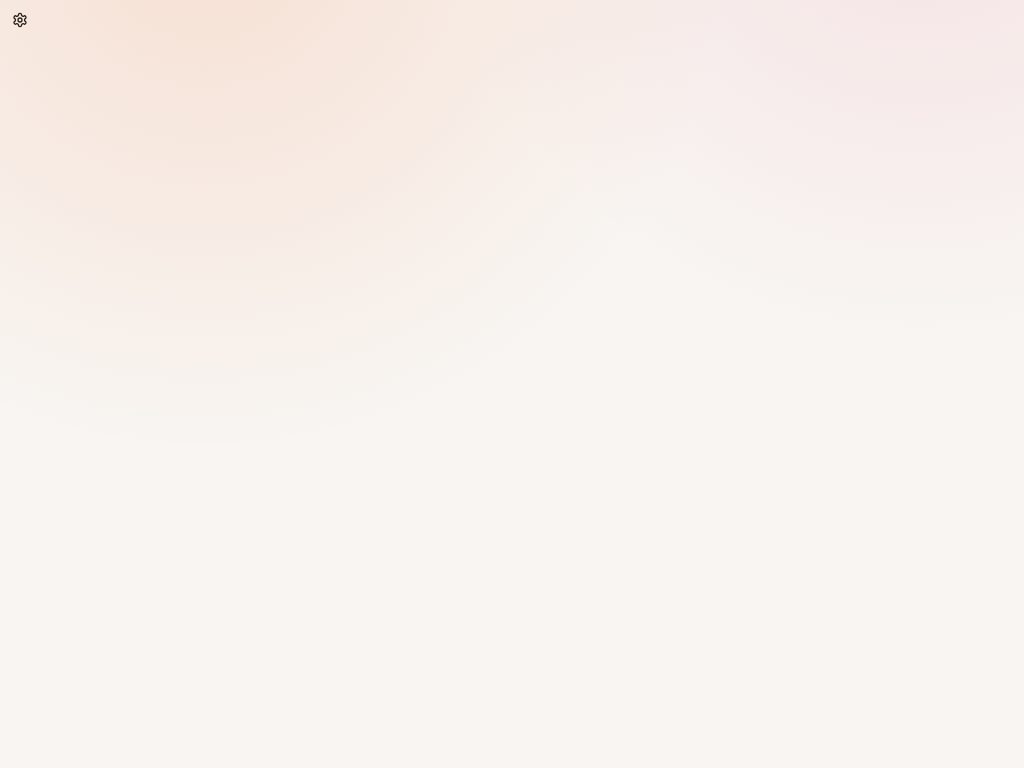
Scenario: SettingsDialog › toggles API key visibility when button is clicked
Note: Open dialog
Click the button named "Ajustes" at (20, 20), box [0,0,40,40]
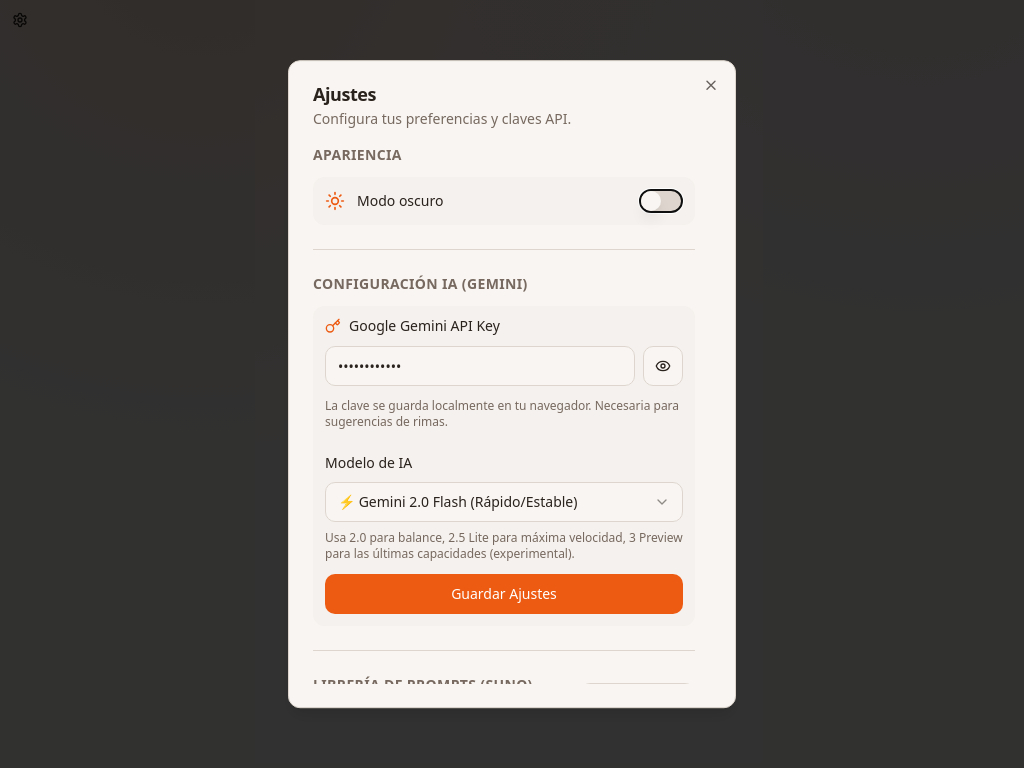
Now the button named "Mostrar clave API" is shown
Note: Click to show
Click the button named "Mostrar clave API" at (663, 366), box [643,346,683,386]
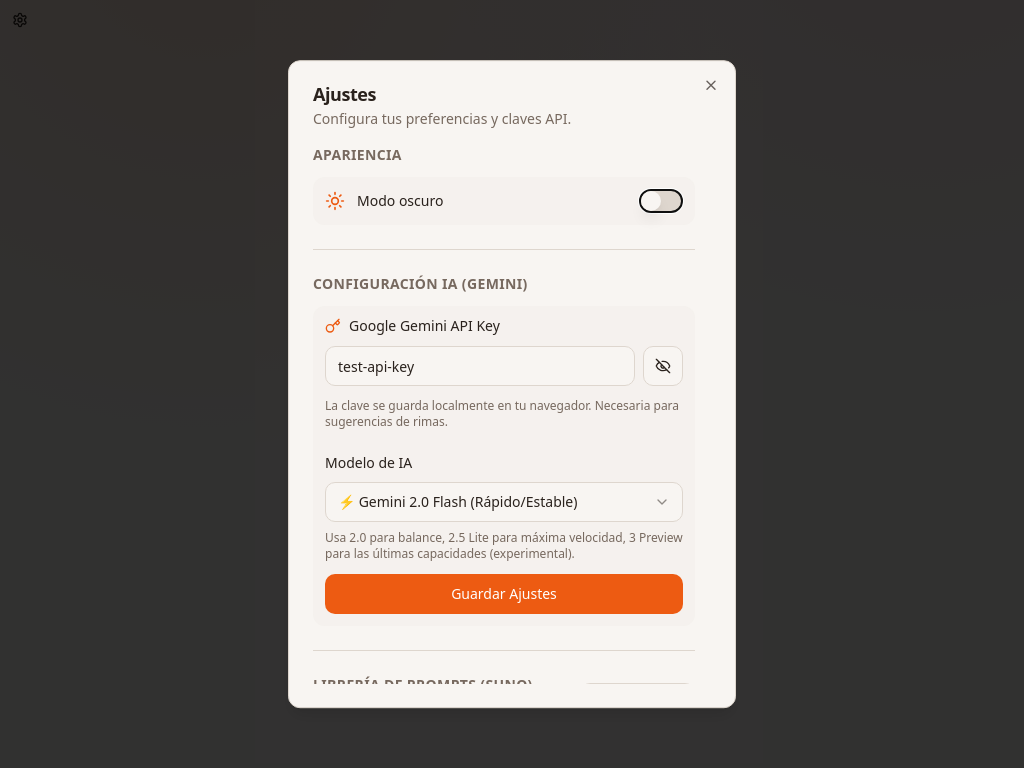
Now the field labelled "Google Gemini API Key" shows its text, box [325,346,635,386]
Now the button named "Ocultar clave API" is shown
Note: Click to hide
Click the button named "Ocultar clave API" at (663, 366), box [643,346,683,386]
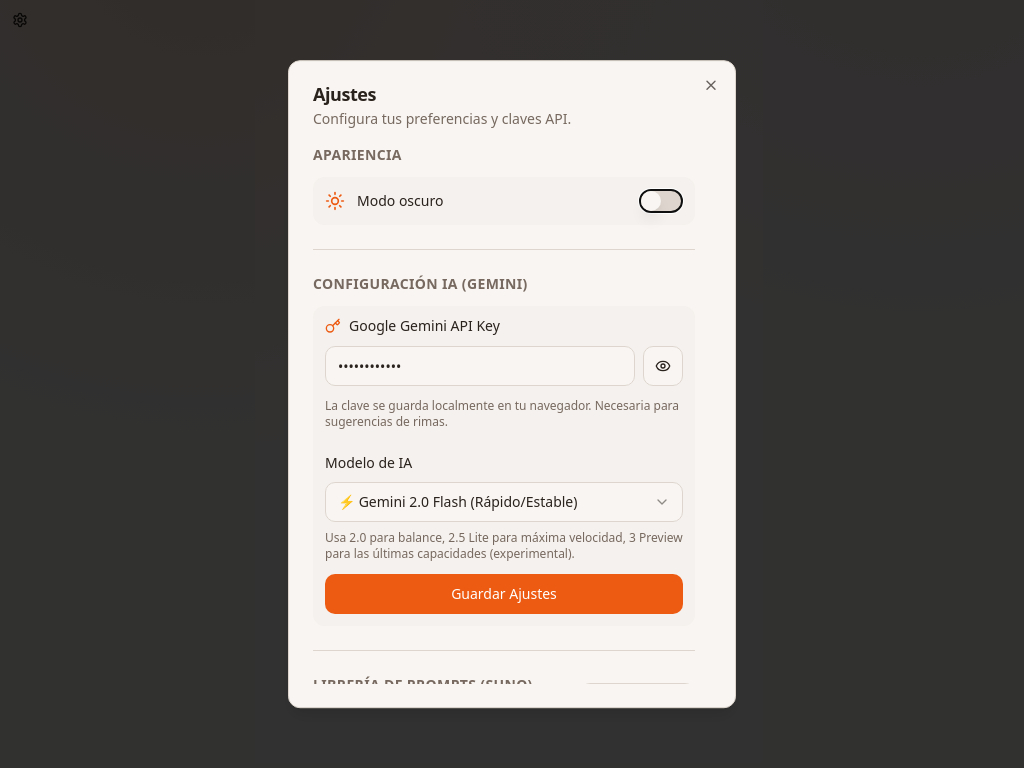
Now the password field labelled "Google Gemini API Key" hides its text, box [325,346,635,386]
Now the button named "Mostrar clave API" is shown, box [643,346,683,386]
